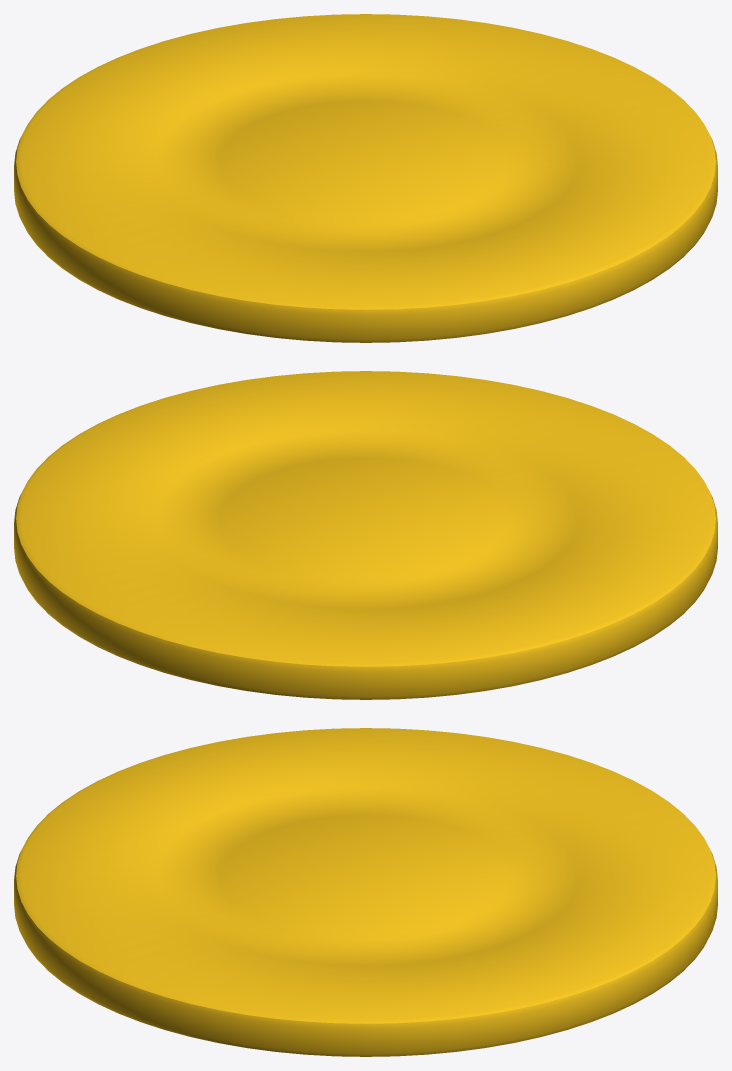
File: puck.glb
The picture shows the model from 3 angles, top to bottom: view 1: azimuth 30°, elevation 25°; view 2: azimuth 150°, elevation 25°; view 3: azimuth 270°, elevation 25°; orthographic projection.
Visible parts, largest first — view 1: puck; view 2: puck; view 3: puck.
Part boxes in pixels (x1,y1,x2,y2): puck: [14, 14, 717, 342]; puck: [14, 371, 717, 699]; puck: [14, 728, 717, 1056].
Size of the model in its own units: 0.0825 by 0.00476 by 0.0825.
